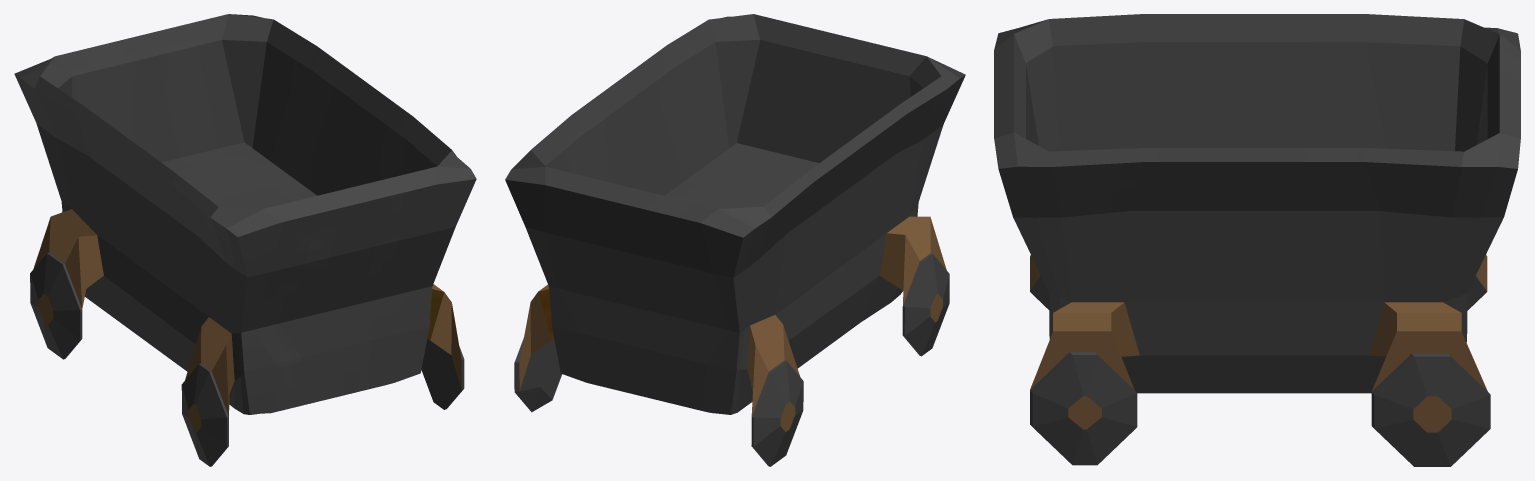
Rendered from Minecart.glb.
3 views of the same model, side by side, from view 1: azimuth 30°, elevation 25°; view 2: azimuth 150°, elevation 25°; view 3: azimuth 270°, elevation 25° (orthographic). The views are drawn at different scales.
Visible parts, largest first — view 1: Cube; view 2: Cube; view 3: Cube.
Boxes of the visible parts, x1,y1,x2,y2 form: Cube: (14, 14, 476, 466); Cube: (505, 14, 965, 466); Cube: (994, 14, 1520, 466).
Size of the model in its own units: 0.5006 by 0.5154 by 0.7763.
3 materials, 2 textured.
